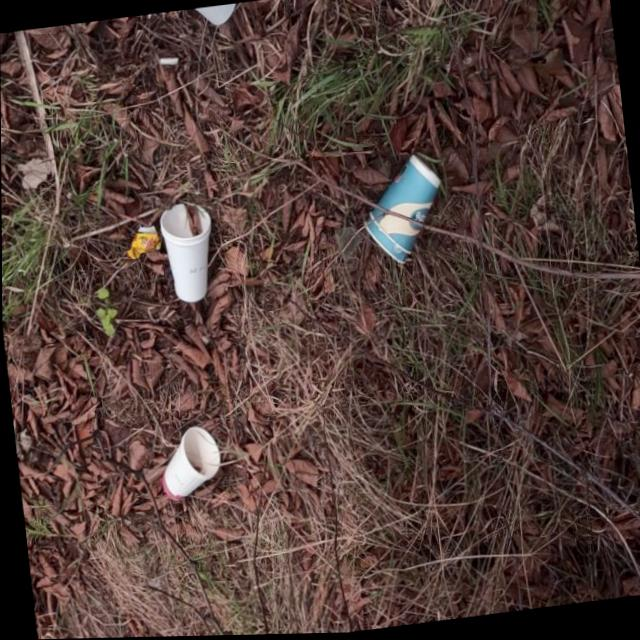Cup: (361, 150, 448, 260), (155, 197, 219, 305), (153, 422, 222, 503), (361, 211, 407, 270)
Plastic: (121, 223, 162, 261)
